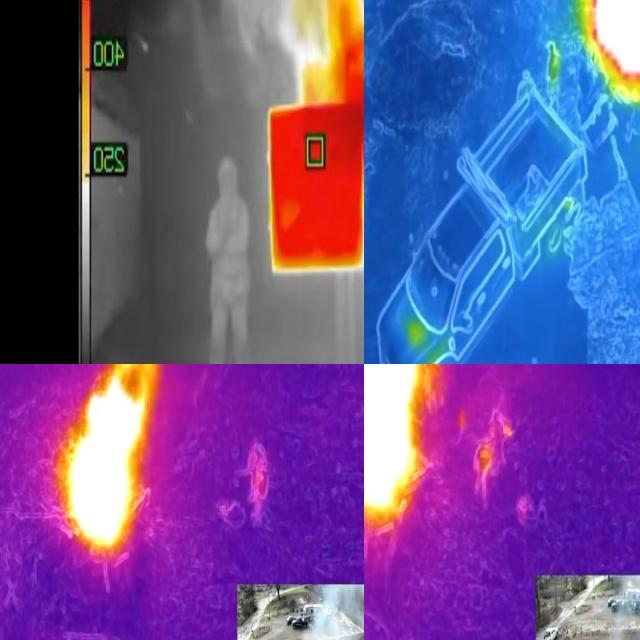fire: (60, 365, 158, 550), (365, 365, 424, 516), (571, 1, 639, 115), (299, 1, 365, 110)
